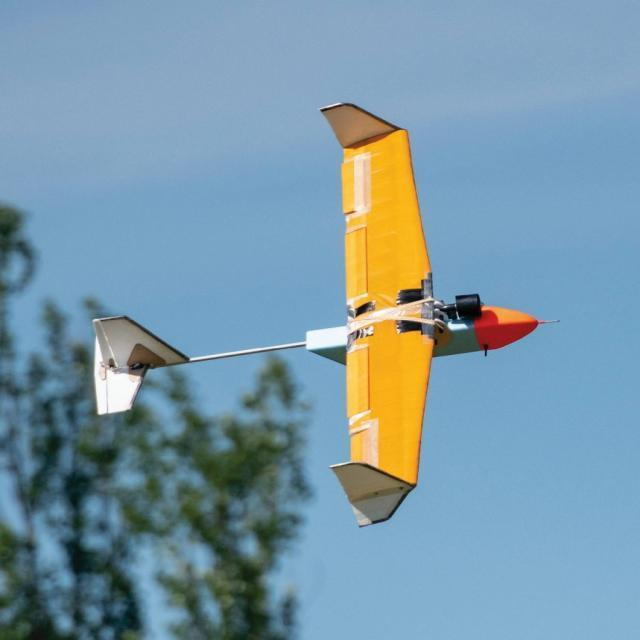iha: (86, 94, 551, 528)
